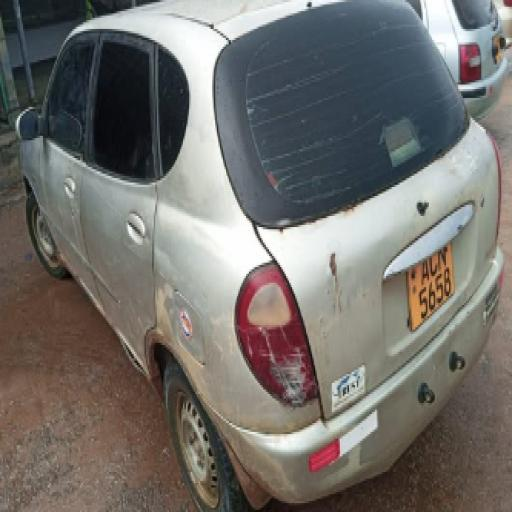number-plates: (409, 236, 458, 317)
